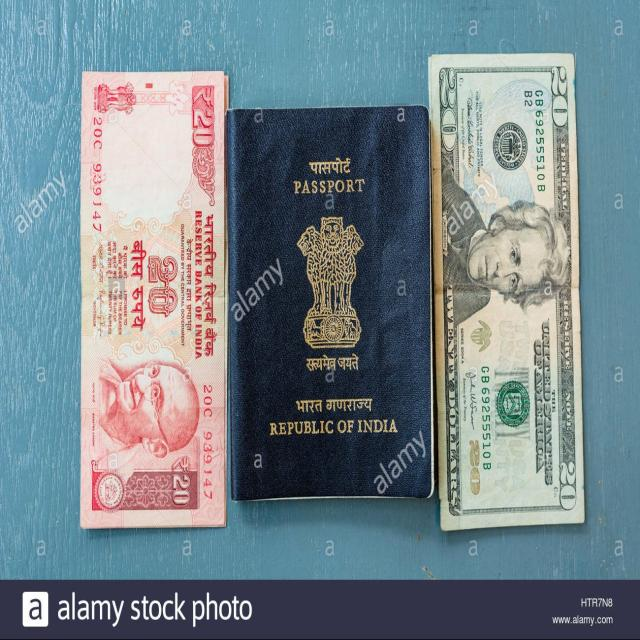20IndianRupees: (82, 73, 227, 529)
